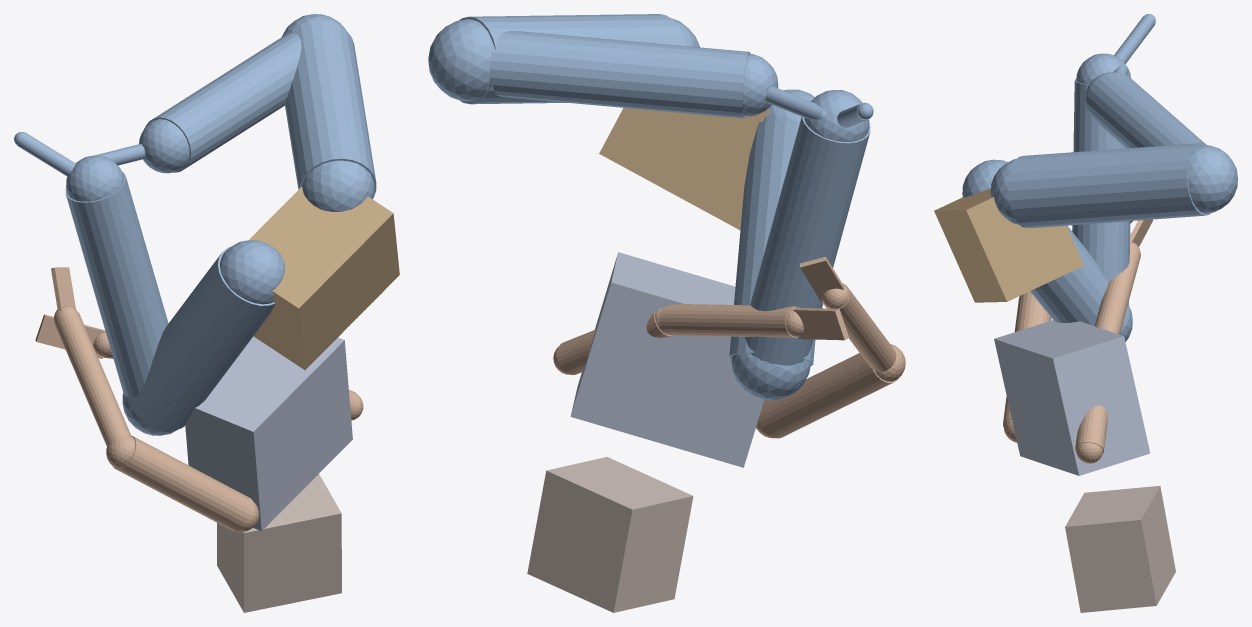
File: maquette_interactive.glb
3 renders of one model, left to right at view 1: azimuth 30°, elevation 25°; view 2: azimuth 150°, elevation 25°; view 3: azimuth 270°, elevation 25°, orthographic. The views are drawn at different scales.
Parts seen in each view (by area): view 1: ribcage, pelvis, right_calf, head, right_thigh, left_thigh, left_calf, right_upper_arm, right_forearm, right_thigh_2, left_thigh_2, left_calf_3 (+7 smaller); view 2: ribcage, head, left_calf, right_calf, pelvis, right_thigh, left_thigh, right_upper_arm, left_thigh_3, left_forearm, right_thigh_3, right_forearm (+6 smaller); view 3: ribcage, left_thigh, head, pelvis, left_calf, right_calf, right_thigh, left_thigh_3, left_forearm, right_upper_arm, left_upper_arm, right_thigh_2 (+4 smaller).
Boxes of the visible parts, <box> form: ribcage: <box>185,336,352,531</box>; pelvis: <box>249,186,399,369</box>; right_calf: <box>65,171,168,398</box>; head: <box>217,474,341,612</box>; right_thigh: <box>125,247,274,430</box>; left_thigh: <box>284,20,376,197</box>; left_calf: <box>145,33,301,172</box>; right_upper_arm: <box>113,435,253,531</box>; right_forearm: <box>54,312,131,446</box>; right_thigh_2: <box>220,240,284,304</box>; left_thigh_2: <box>302,160,374,211</box>; left_calf_3: <box>139,119,189,173</box>; ribcage: <box>570,252,764,467</box>; head: <box>527,457,693,612</box>; left_calf: <box>489,31,750,118</box>; right_calf: <box>745,117,870,365</box>; pelvis: <box>599,108,770,229</box>; right_thigh: <box>729,121,815,365</box>; left_thigh: <box>459,14,685,104</box>; right_upper_arm: <box>758,353,899,438</box>; left_thigh_3: <box>428,19,492,101</box>; left_forearm: <box>659,304,798,337</box>; right_thigh_3: <box>731,353,810,400</box>; right_forearm: <box>822,283,896,371</box>; ribcage: <box>994,320,1150,475</box>; left_thigh: <box>1008,143,1211,227</box>; head: <box>1065,486,1175,612</box>; pelvis: <box>934,188,1083,302</box>; left_calf: <box>1086,72,1205,148</box>; right_calf: <box>1072,79,1130,303</box>; right_thigh: <box>1030,225,1129,325</box>; left_thigh_3: <box>1187,145,1237,213</box>; left_forearm: <box>1095,244,1140,334</box>; right_upper_arm: <box>1003,292,1051,427</box>; left_upper_arm: <box>1075,405,1107,453</box>; right_thigh_2: <box>962,159,1007,197</box>.
Bounding box in the file's own units: 0.6718 × 0.9304 × 0.524.
